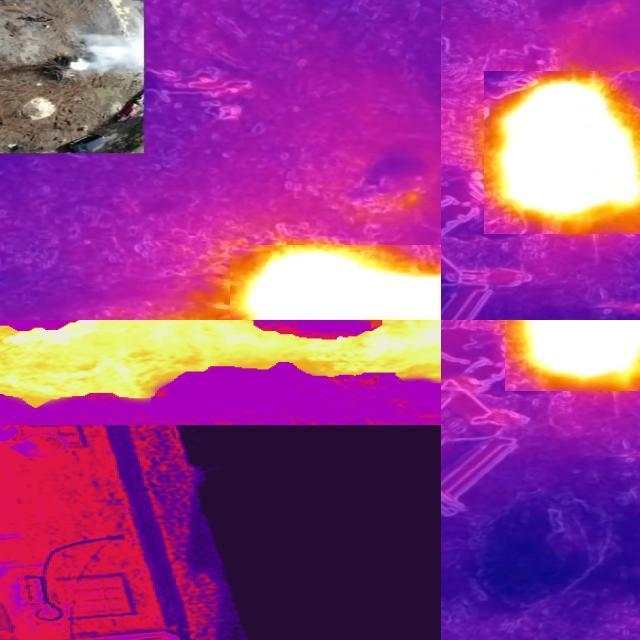fire: (1, 321, 442, 426), (484, 72, 640, 235), (230, 246, 442, 321), (505, 321, 640, 392)
